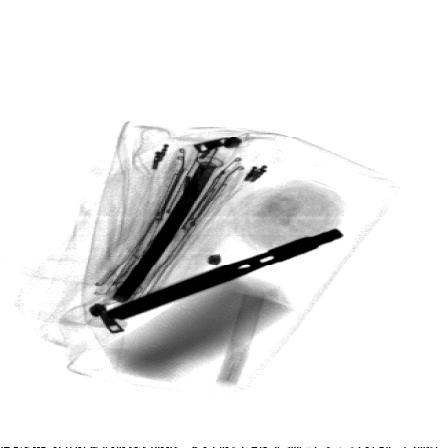Pliers: (105, 228, 346, 322)
